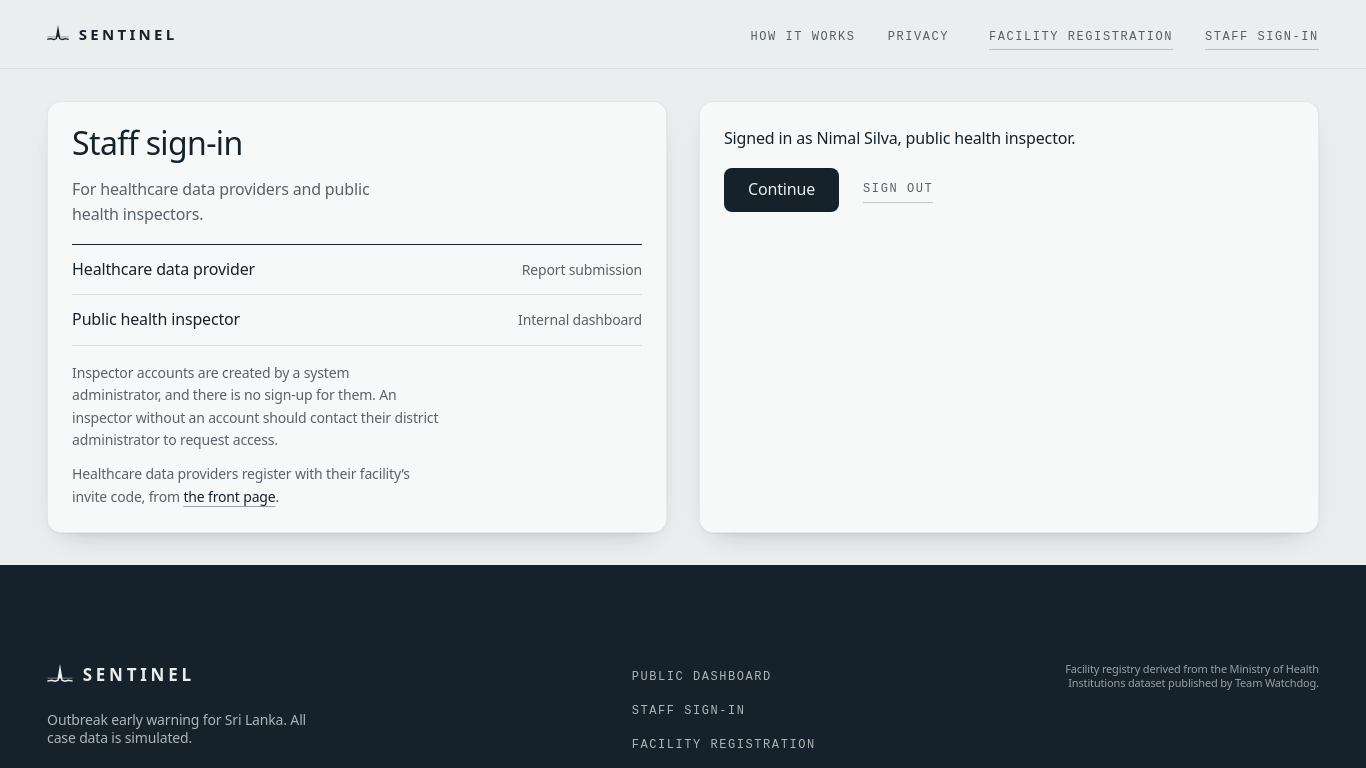
SignInPage › recognises someone already signed in and offers to sign them out
This screenshot has width=1366, height=768.
expect the text "Signed in as Nimal Silva, public health inspector." is shown: met, box [724,127,1075,149]
Click the button "Sign out": coordinates (898, 190) [863,176,933,203]
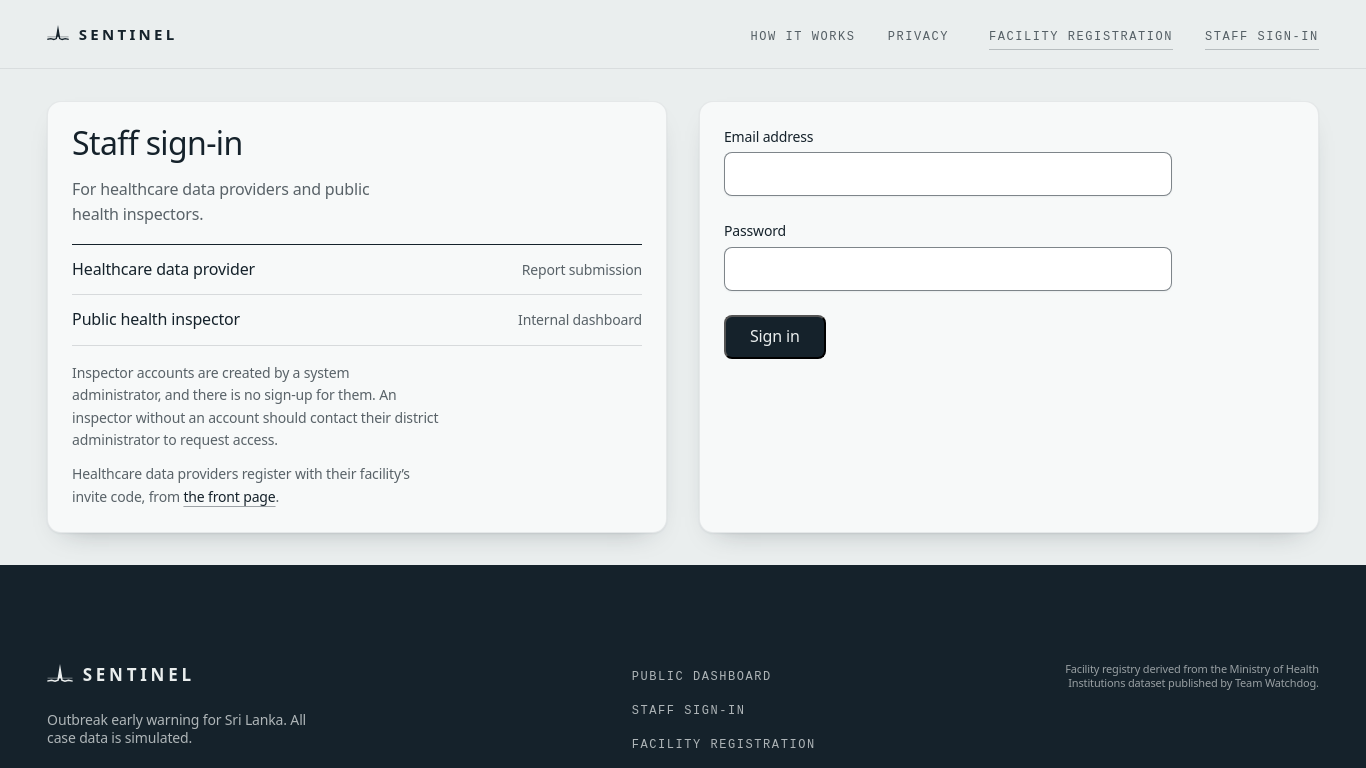
expect the field labelled "Email address" is shown: met, box [724,152,1172,196]
